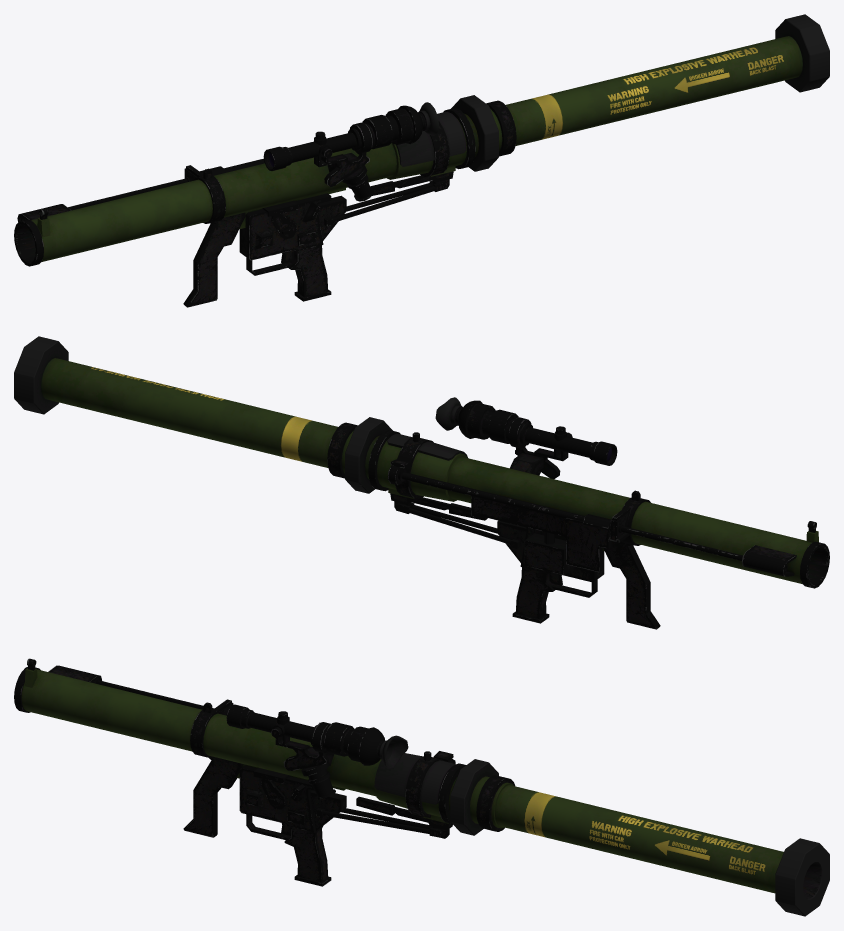
Rendered from ba_mk_153_smaw.glb.
The picture shows the model from 3 angles, top to bottom: view 1: azimuth 30°, elevation 25°; view 2: azimuth 150°, elevation 25°; view 3: azimuth 330°, elevation 25°; orthographic projection.
Parts seen in each view (by area): view 1: Cylinder.000_0; view 2: Cylinder.000_0; view 3: Cylinder.000_0.
Boxes of the visible parts, x1,y1,x2,y2 form: Cylinder.000_0: (14,14,829,307); Cylinder.000_0: (14,336,829,629); Cylinder.000_0: (14,658,829,916).
Size of the model in its own units: 0.0146 by 0.00326 by 0.00165.
1 material, 1 textured.
